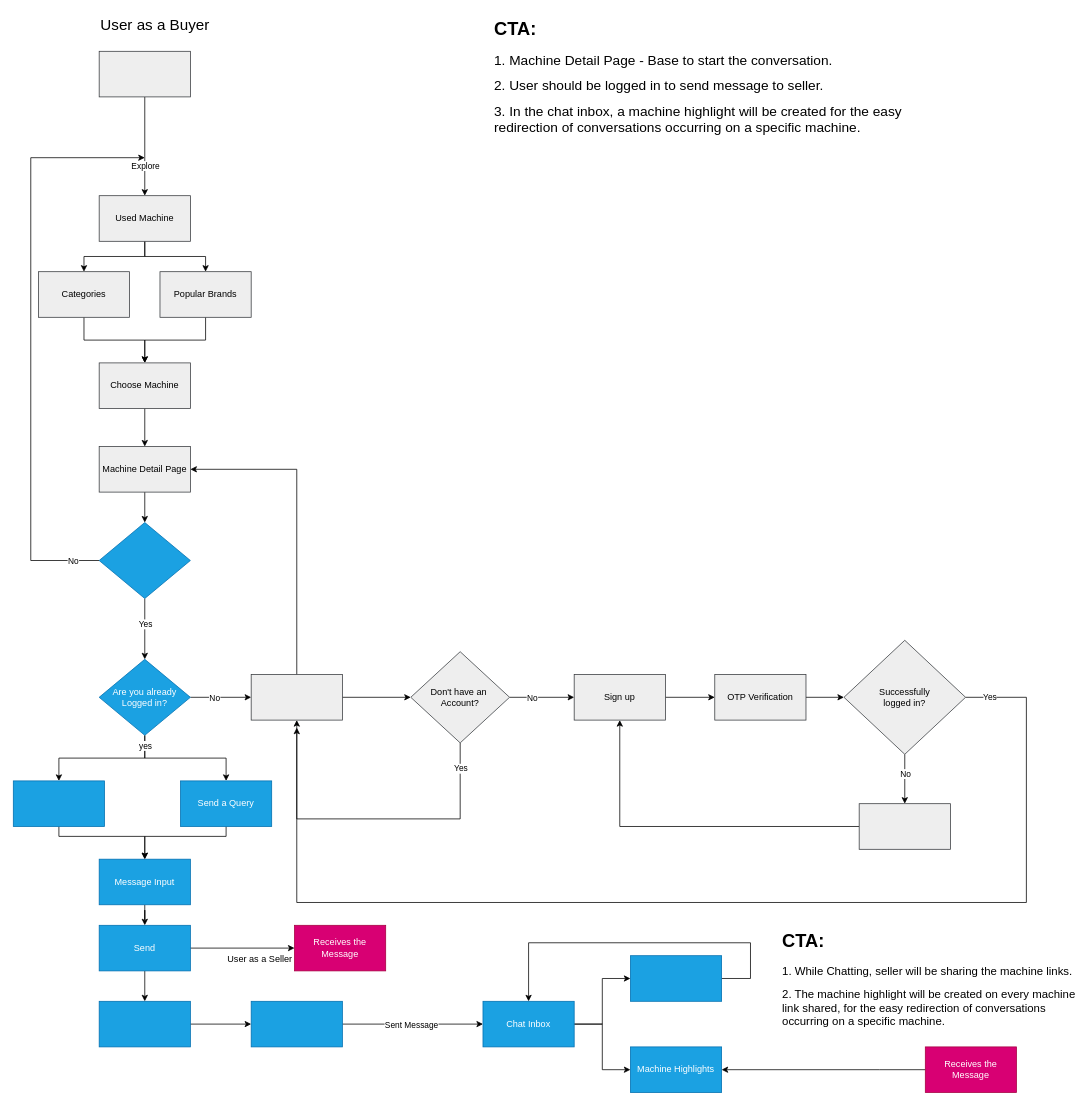
The diagram is 1091 pixels wide and 1106 high, and some of its shapes have lost their labels. The shapes that lost their labels are listed below. From the top down, each one's centre as x and y in pixels, then its label:
At (144,74): "Machine Dalal".
At (144,560): "Do you want to contact seller?".
At (296,697): "Log in".
At (58,803): "Send Message to Seller".
At (904,826): "Try again!".
At (676,978): "Receive the Revert from Seller".
At (144,1024): "Console".
At (296,1024): "Conversations".
